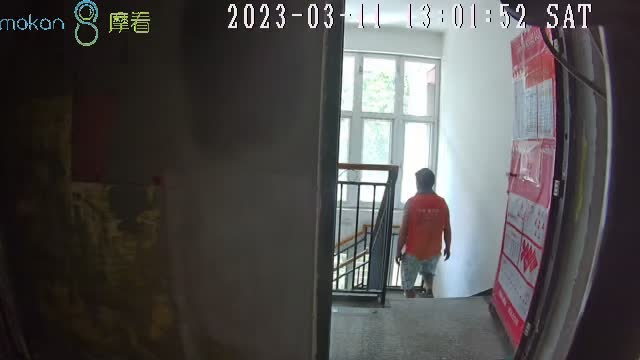people: (396, 168, 452, 298)
window: (338, 55, 442, 206)
